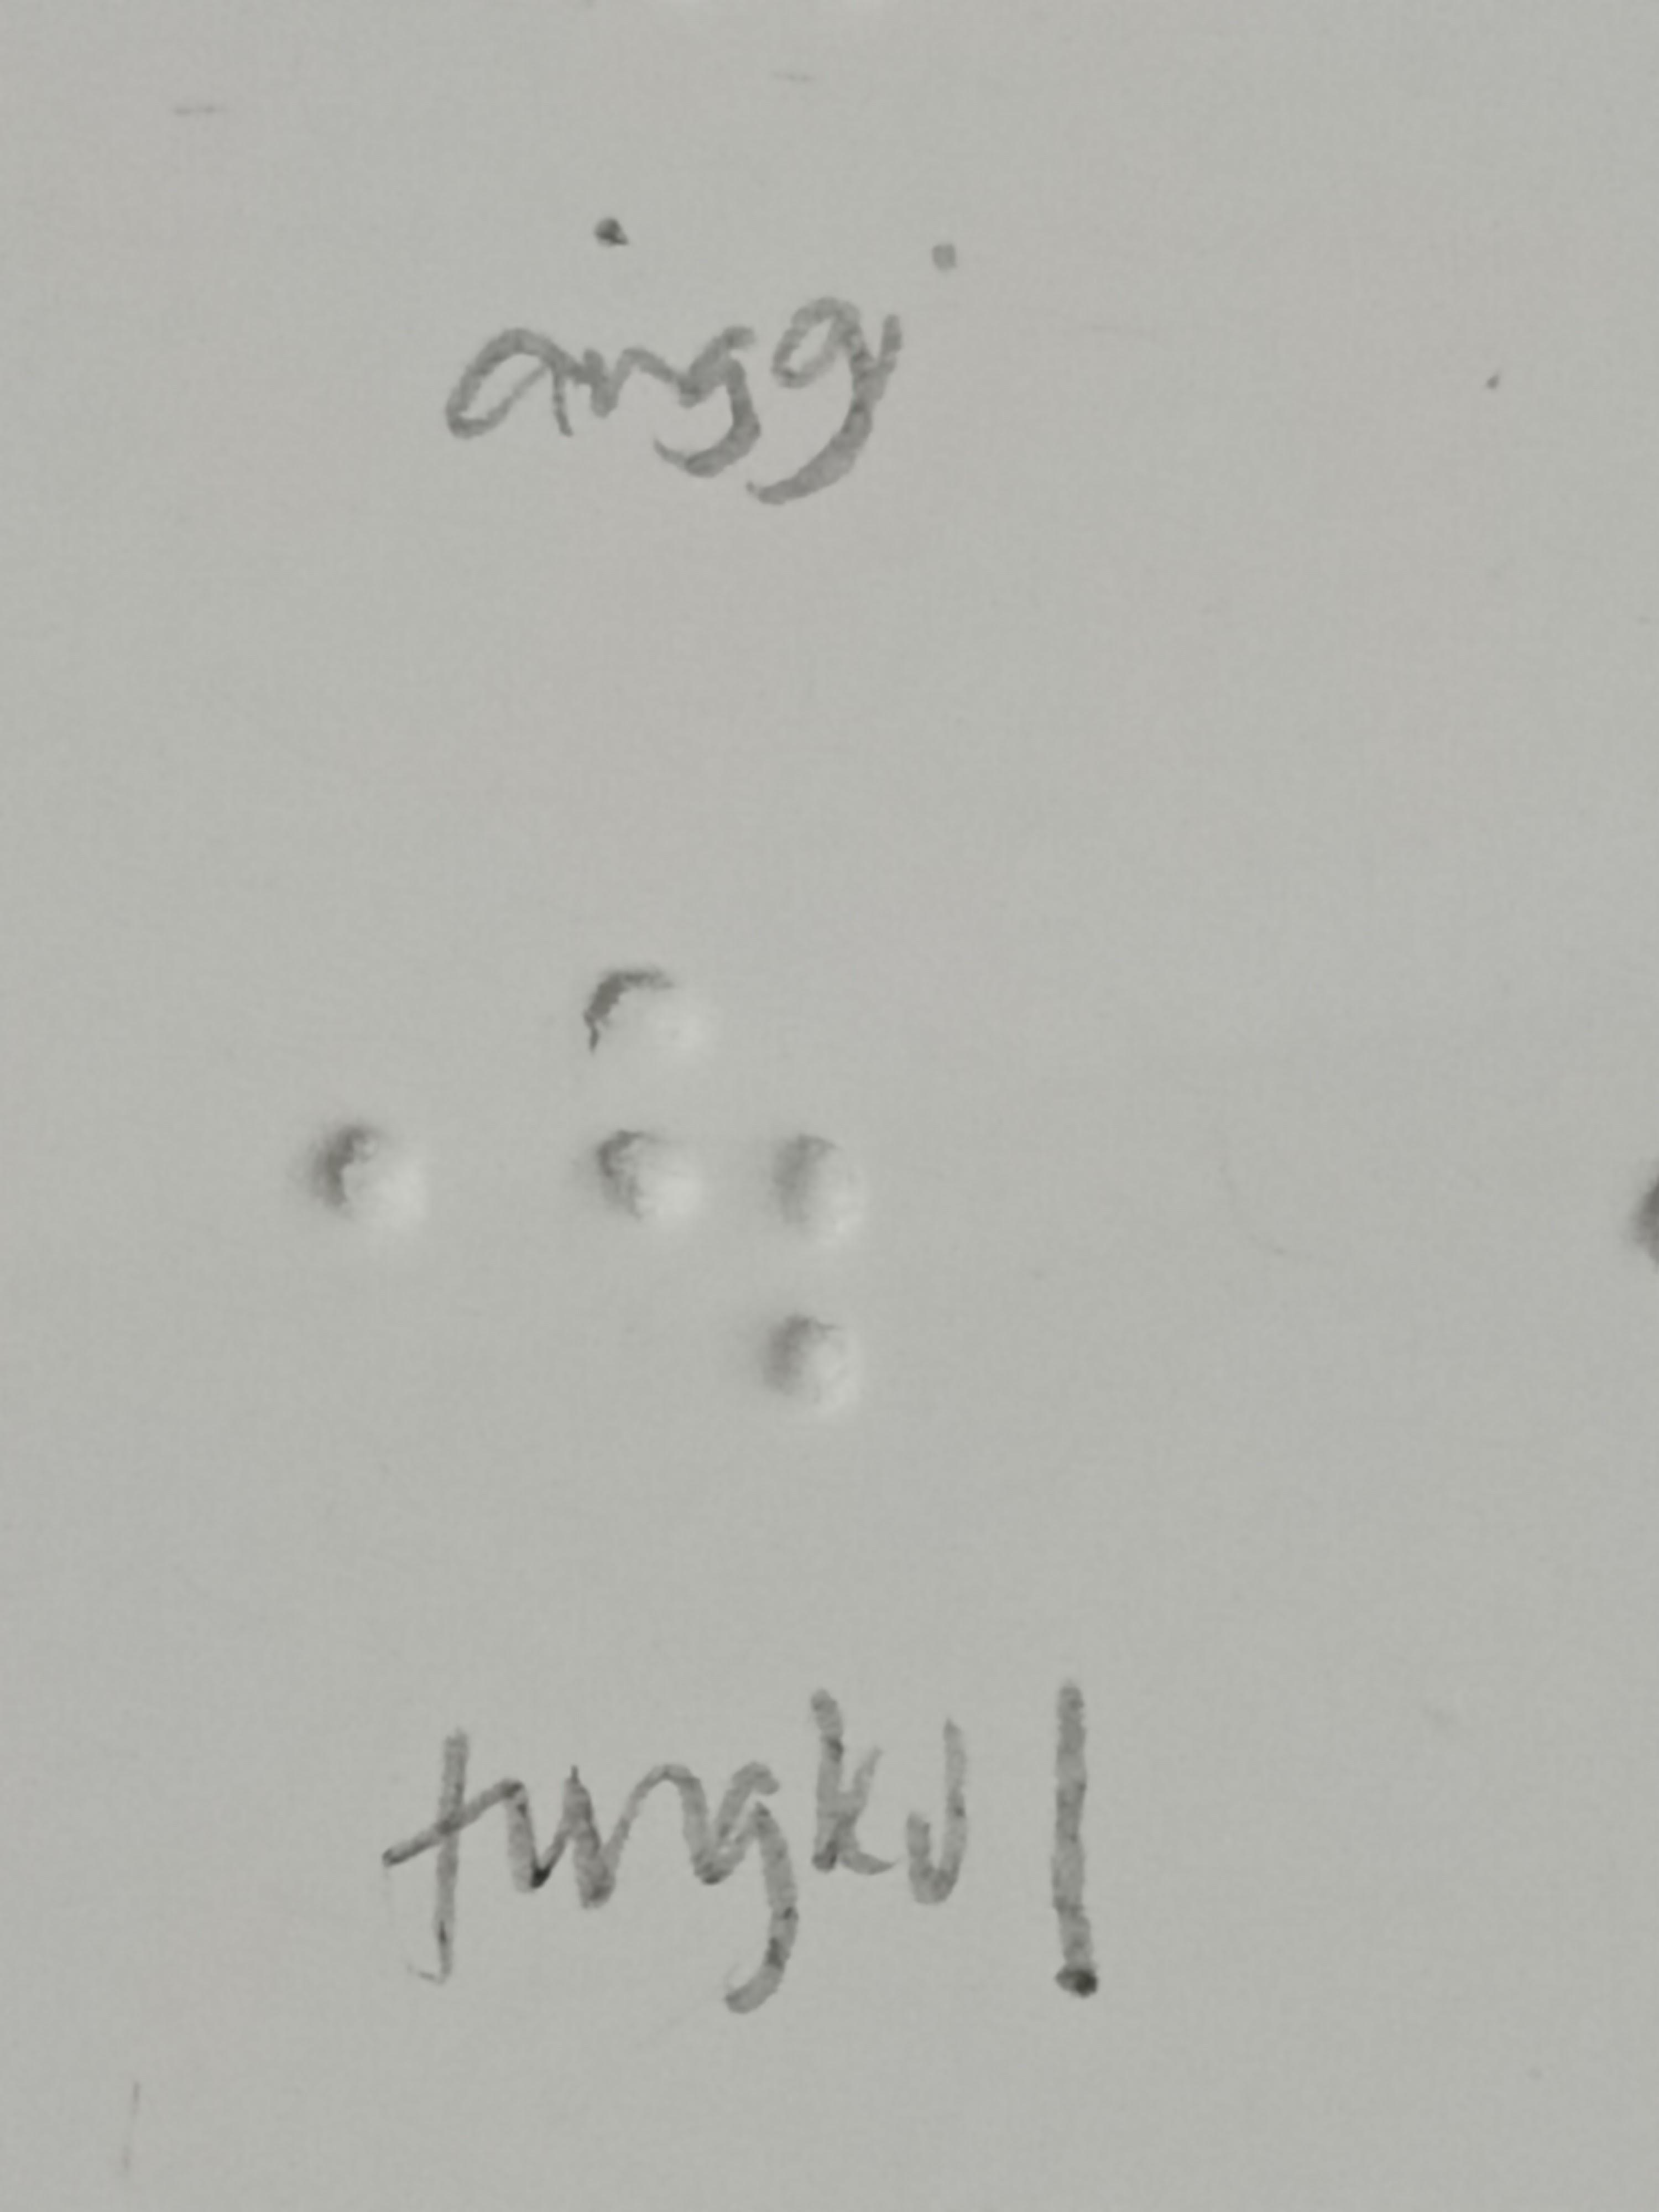dot_5: (131, 958, 411, 1423)
two_cell_non_alphabet_tungkol: (582, 958, 863, 1423)
